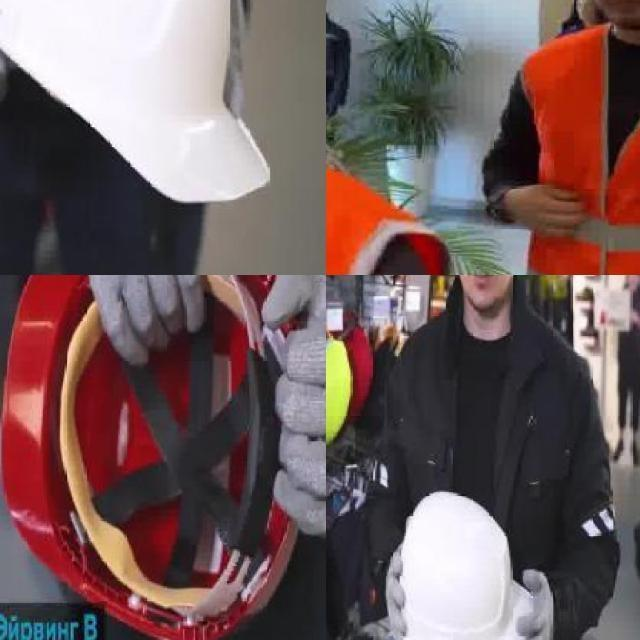apron: (261, 275, 326, 538), (47, 275, 213, 364), (510, 564, 556, 640), (386, 542, 409, 640)
